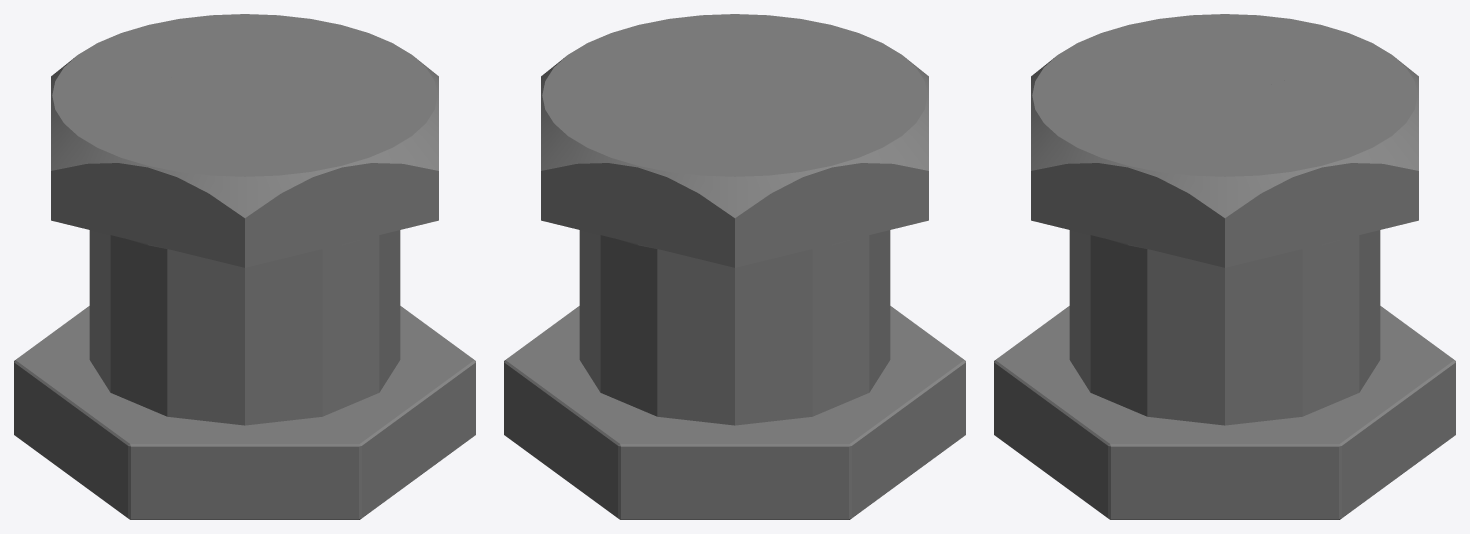
File: FiveHighConnector.fbx
3 views of the same model, side by side, from view 1: azimuth 30°, elevation 25°; view 2: azimuth 150°, elevation 25°; view 3: azimuth 270°, elevation 25° (orthographic).
Parts seen in each view (by area): view 1: 5HighConnection; view 2: 5HighConnection; view 3: 5HighConnection.
Part boxes in pixels (box(x1,y1,x2,y2)): 5HighConnection: box(14, 14, 475, 519); 5HighConnection: box(504, 14, 965, 519); 5HighConnection: box(994, 14, 1455, 519).
Bounding box in the file's own units: 2.12 × 1.78 × 2.19.
